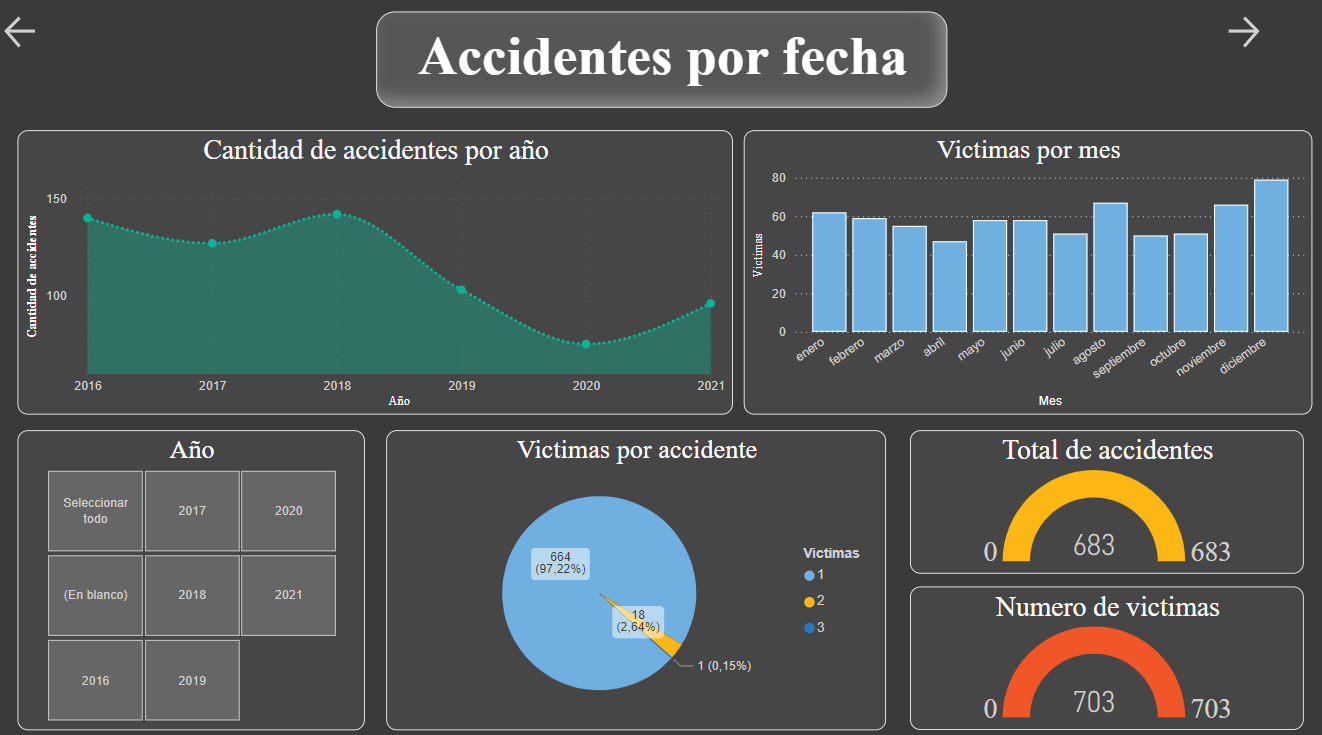

The page's visual inventory and layout, read from the dashboard file:
{"tool":"powerbi","page":{"name":"Fecha","canvas":[1280,720],"ordinal":1},"visuals":[{"type":"textbox","box":[363.1,16.9,551.3,92.9],"z":0},{"type":"lineChart","title":"Cantidad de accidentes por año","fields":{"Y":["CountNonNull(accidentes_transito hechos_homicidios.ID_hecho)"],"Category":["accidentes_transito hechos_homicidios.FECHA.Variación.Jerarquía de fechas.Año","accidentes_transito hechos_homicidios.FECHA.Variación.Jerarquía de fechas.Mes"]},"box":[16.7,131.4,690.4,274.3],"z":1000},{"type":"slicer","title":"Año","fields":{"Values":["accidentes_transito hechos_homicidios.FECHA.Variación.Jerarquía de fechas.Año"]},"box":[16.9,421,335.4,289.5],"z":2000},{"type":"clusteredColumnChart","title":"Victimas por mes","fields":{"Y":["Sum(accidentes_transito hechos_homicidios.N_VICTIMAS)"],"Category":["accidentes_transito hechos_homicidios.FECHA.Variación.Jerarquía de fechas.Mes"]},"box":[717.4,131.4,548.7,274.3],"z":3000},{"type":"pieChart","title":"Victimas por accidente","fields":{"Series":["accidentes_transito hechos_homicidios.N_VICTIMAS"],"Y":["CountNonNull(accidentes_transito hechos_homicidios.ID_hecho)"]},"box":[372.8,421,482.6,289.5],"z":4000},{"type":"gauge","title":"Total de accidentes","fields":{"Y":["Count(accidentes_transito hechos_homicidios.ID_hecho)"]},"box":[878.3,421,380,138.7],"z":5000},{"type":"gauge","title":"Numero de victimas","fields":{"Y":["Sum(accidentes_transito hechos_homicidios.N_VICTIMAS)"]},"box":[878.3,571.9,380,138.7],"z":6000},{"type":"actionButton","box":[0,16.9,100.1,39.8],"z":7000},{"type":"actionButton","box":[1179.9,16.9,100.1,39.8],"z":8000}]}

Visuals, with their boxes in screenshot pixels (x1, y1, x2, y2), scaled from the page's 1280x720 canvas onto the 1322x735 screenshot:
textbox: x1=375, y1=17, x2=944, y2=112
"Cantidad de accidentes por año" lineChart: x1=17, y1=134, x2=730, y2=414
"Año" slicer: x1=17, y1=430, x2=364, y2=725
"Victimas por mes" clusteredColumnChart: x1=741, y1=134, x2=1308, y2=414
"Victimas por accidente" pieChart: x1=385, y1=430, x2=883, y2=725
"Total de accidentes" gauge: x1=907, y1=430, x2=1300, y2=571
"Numero de victimas" gauge: x1=907, y1=584, x2=1300, y2=725
actionButton: x1=0, y1=17, x2=103, y2=58
actionButton: x1=1219, y1=17, x2=1321, y2=58
